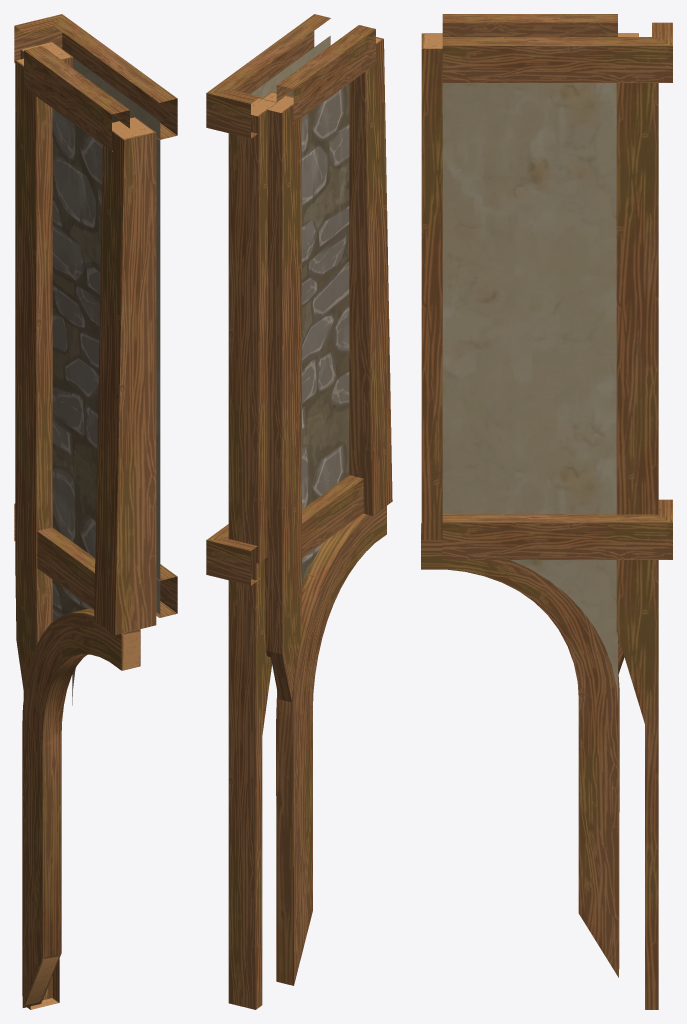
Rendered from Overhang_Side_UnevenBrick_Short_L.glb.
3 renders of one model, left to right at view 1: azimuth 30°, elevation 25°; view 2: azimuth 150°, elevation 25°; view 3: azimuth 270°, elevation 25°, orthographic. The views are drawn at different scales.
Visible parts, largest first — view 1: Overhang_Side_UnevenBrick_Short_L; view 2: Overhang_Side_UnevenBrick_Short_L; view 3: Overhang_Side_UnevenBrick_Short_L.
Boxes of the visible parts, x1,y1,x2,y2 form: Overhang_Side_UnevenBrick_Short_L: [14, 14, 177, 1009]; Overhang_Side_UnevenBrick_Short_L: [206, 14, 392, 1009]; Overhang_Side_UnevenBrick_Short_L: [421, 14, 672, 1009].
Size of the model in its own units: 0.4794 by 6.12 by 1.44.
3 materials, 3 textured.
